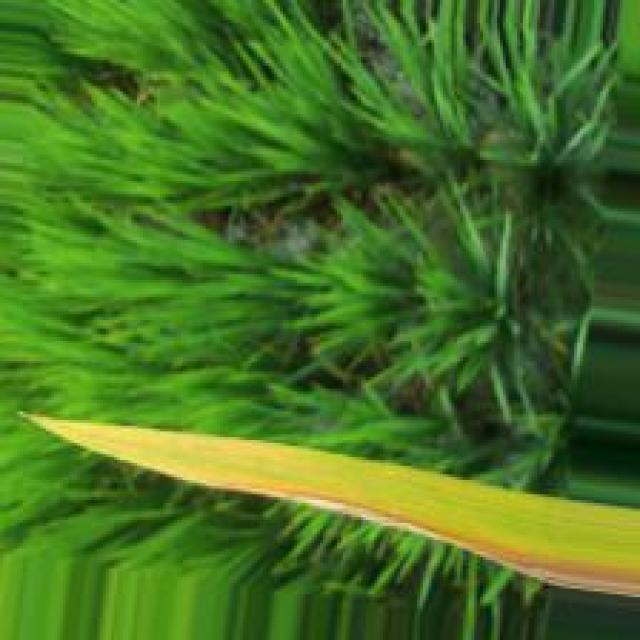Bacterial_Leaf_Blight: (9, 413, 640, 602)
